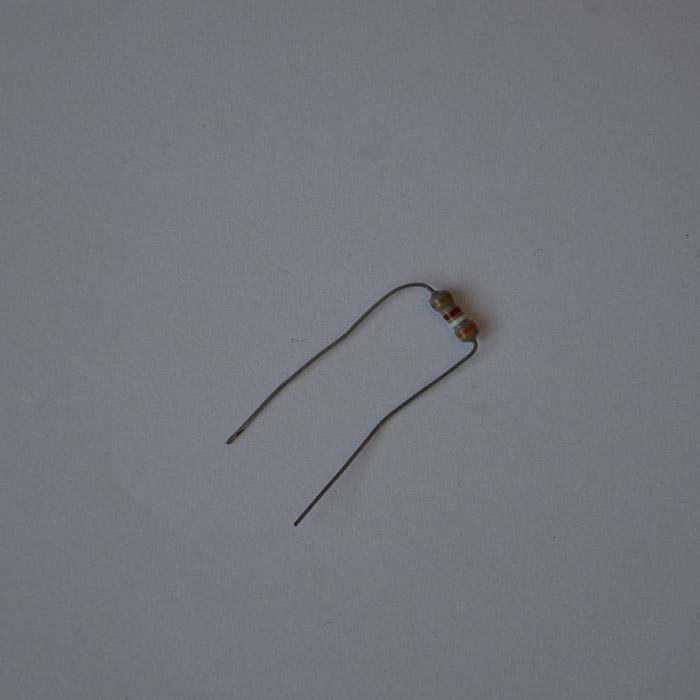resistor: (428, 288, 477, 344)
